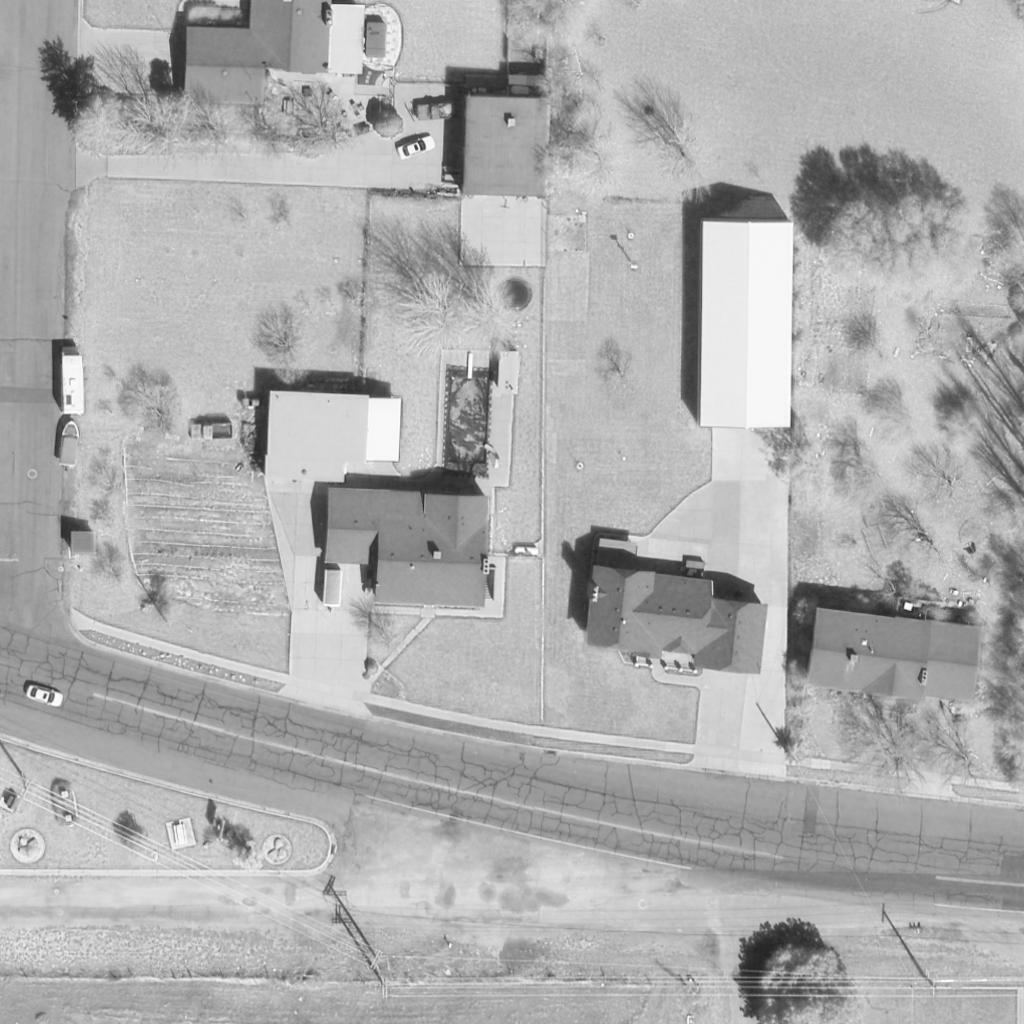vehicle: (63, 348, 83, 416), (25, 680, 65, 712), (58, 421, 84, 465), (394, 135, 436, 159), (415, 101, 461, 121), (323, 570, 343, 614), (190, 423, 232, 441)
